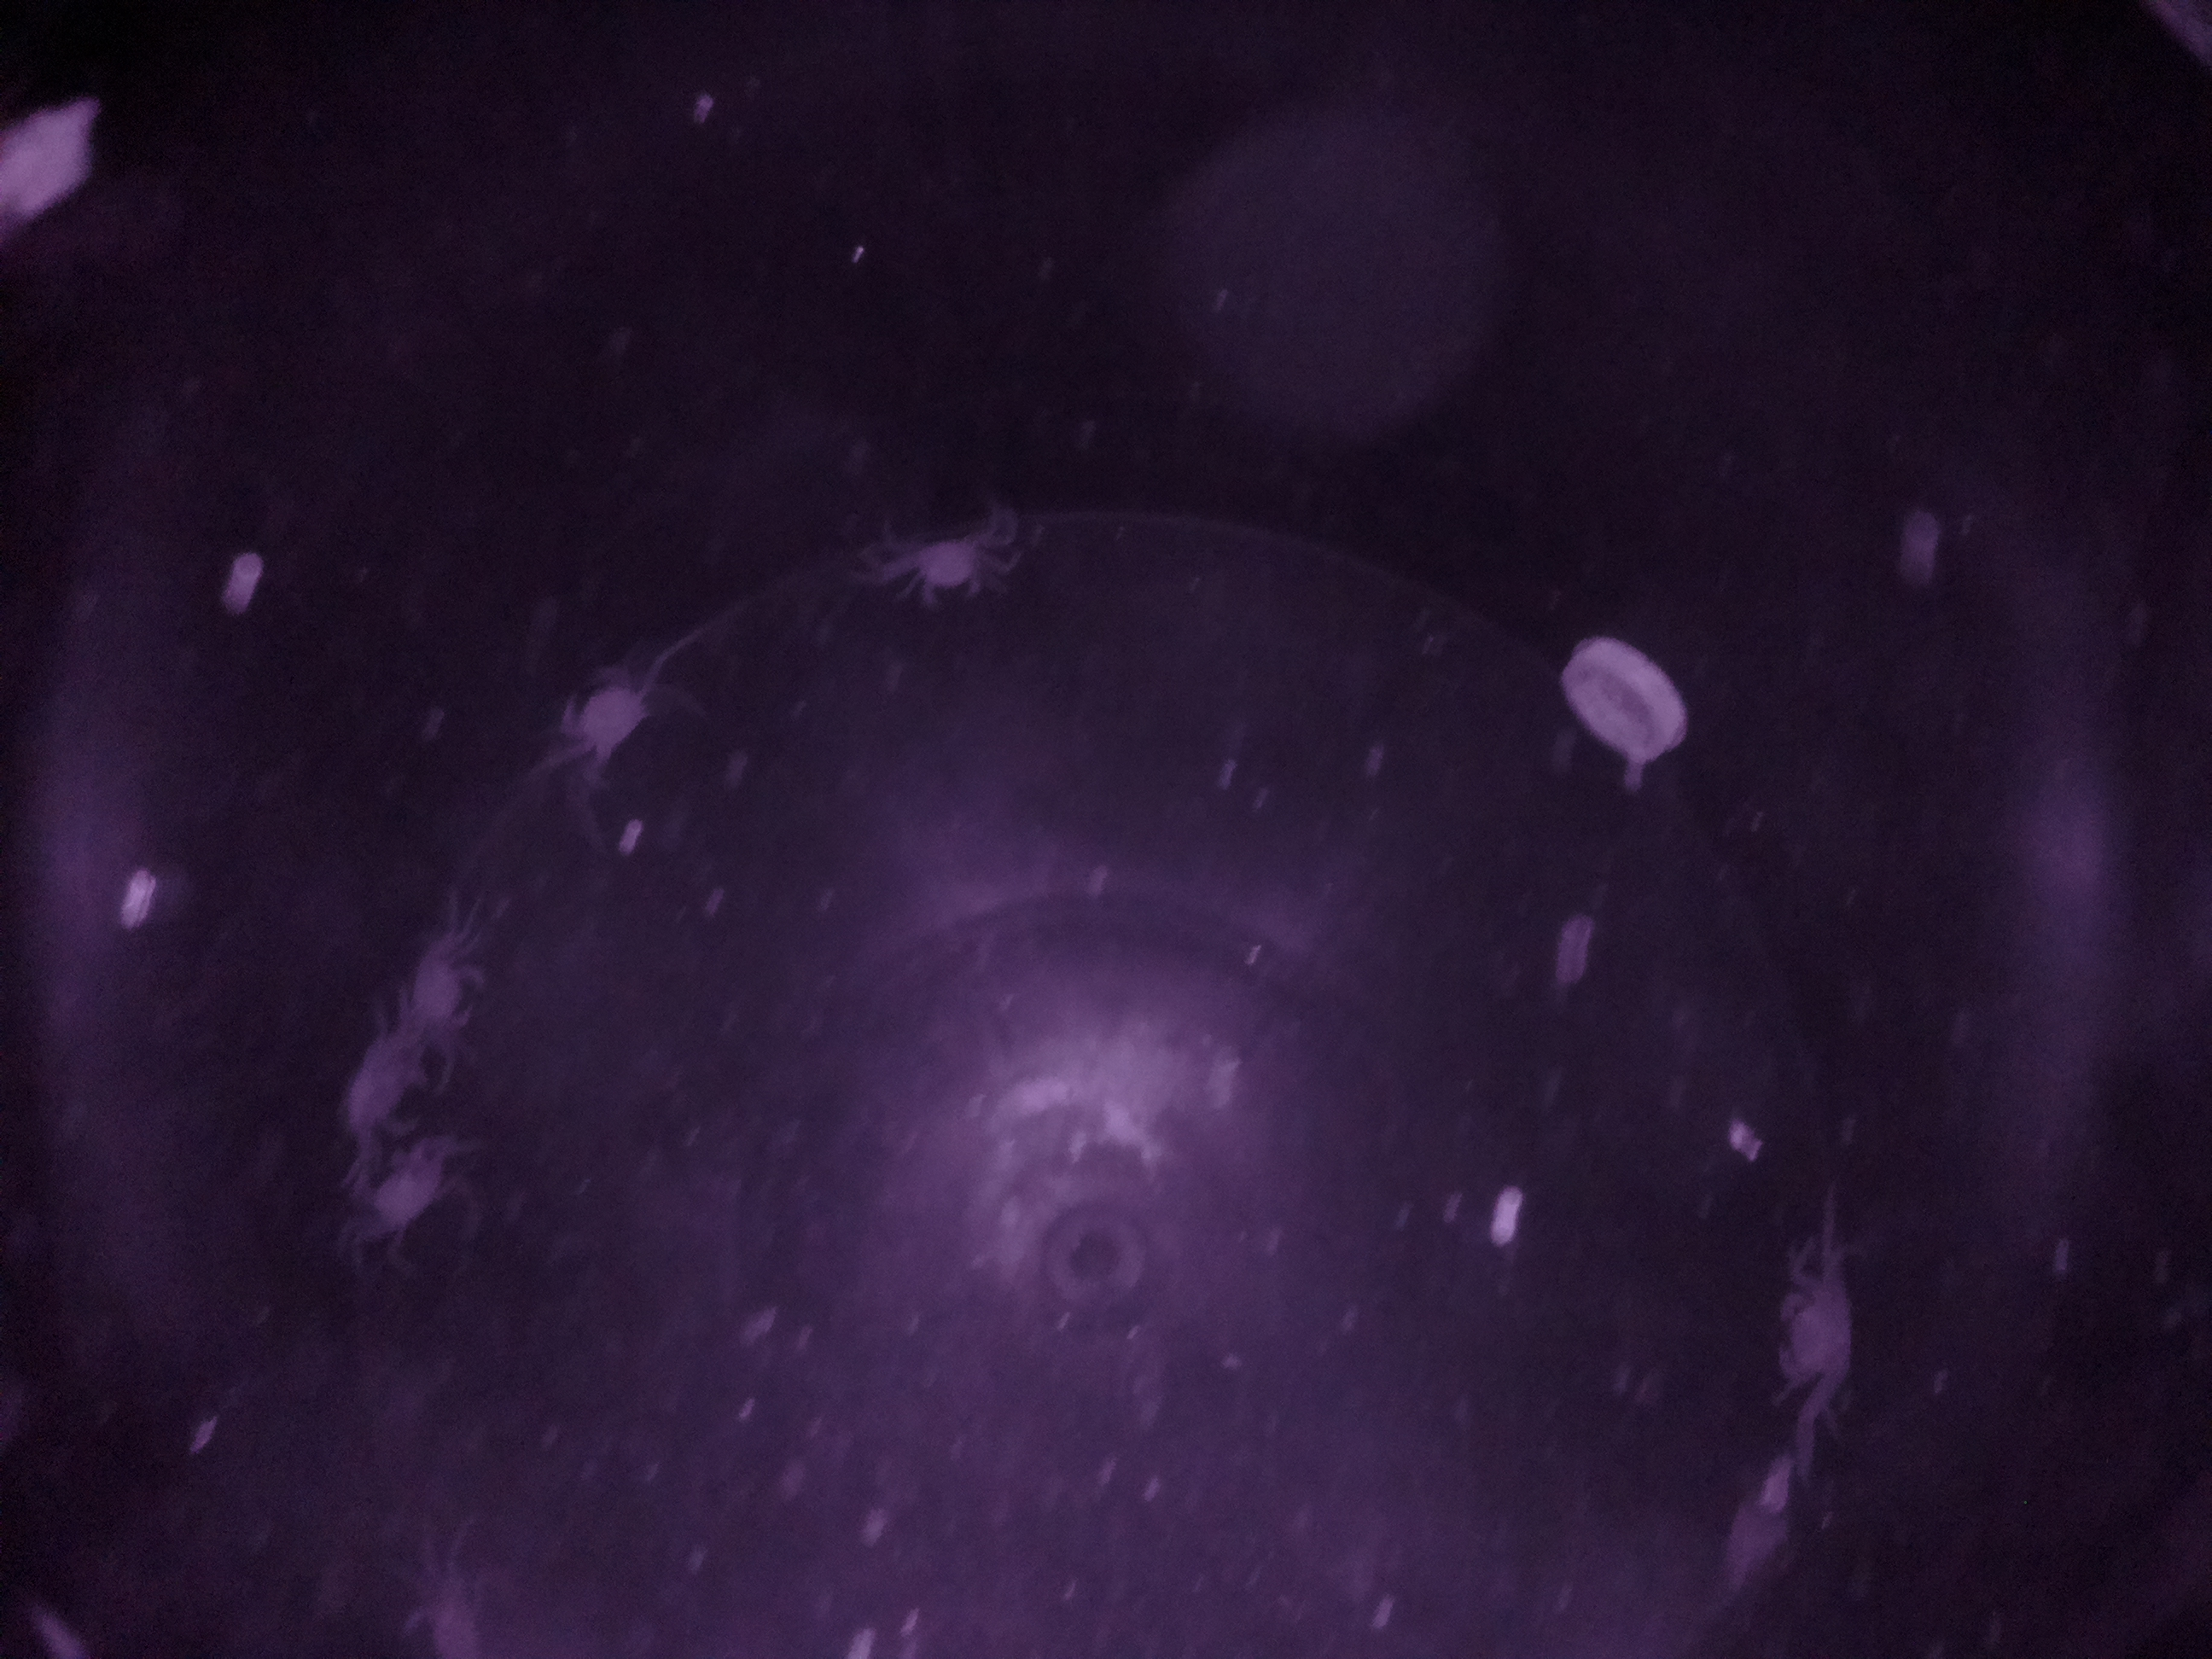Crab: (383, 931, 509, 1079), (1759, 1258, 1876, 1415), (543, 643, 669, 781), (880, 507, 1015, 627)
